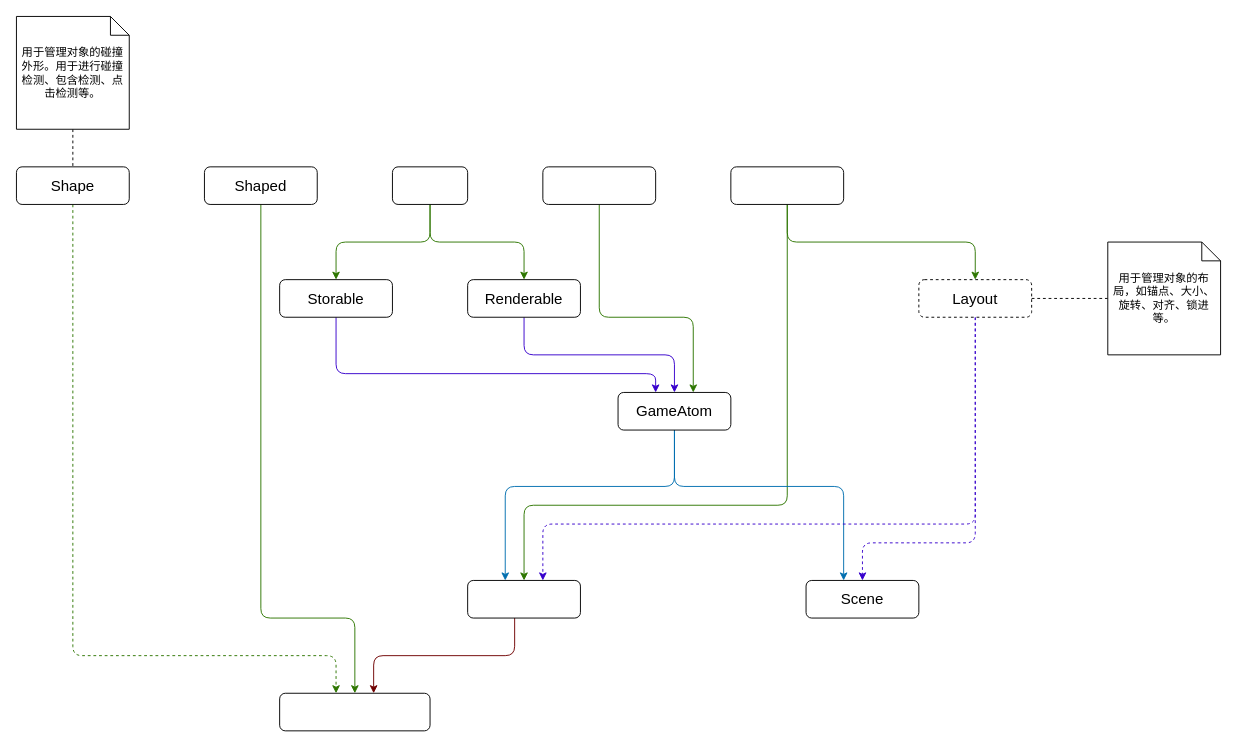
This 1237x747 diagram has some shape labels left out. Each missing label, with the box of its shape:
Finalizable: (542, 166, 656, 204)
GameObject: (467, 580, 580, 618)
ID: (392, 166, 468, 204)
ShapedGameObject: (279, 692, 430, 731)
TreeNode: (730, 166, 844, 204)
